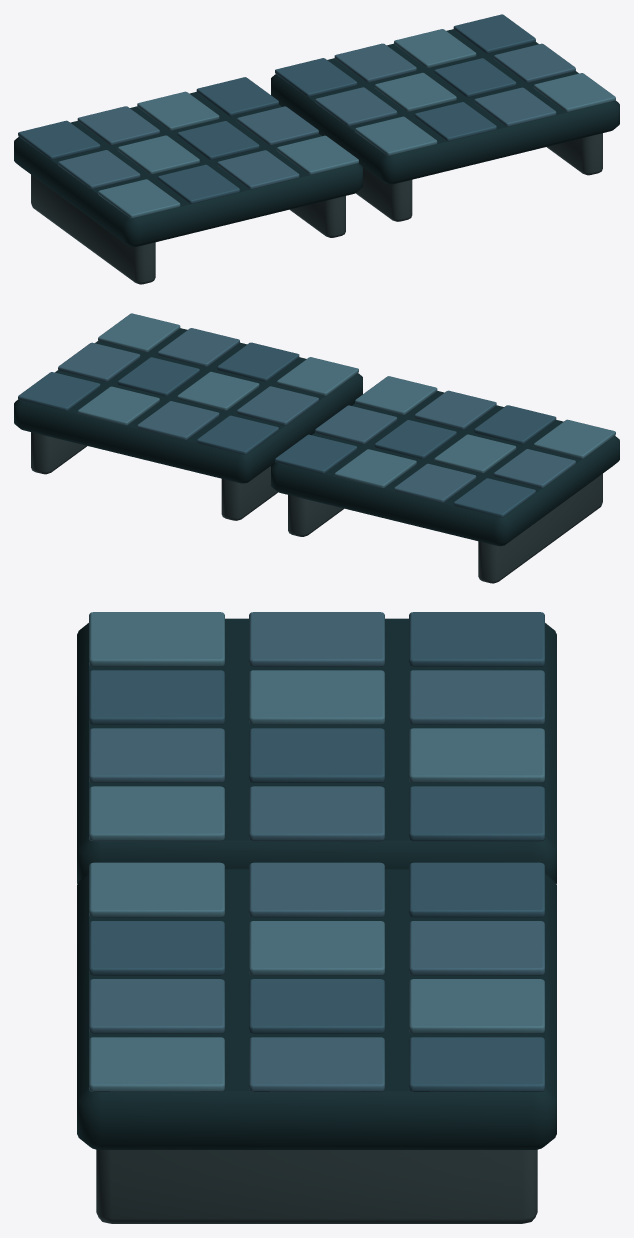
The model's file is service_solar.glb.
3 views of the same model, one above another, from view 1: azimuth 30°, elevation 25°; view 2: azimuth 150°, elevation 25°; view 3: azimuth 270°, elevation 25° (orthographic). The views are drawn at different scales.
Visible parts, largest first — view 1: Service_solar; view 2: Service_solar; view 3: Service_solar.
Boxes of the visible parts, box(x1,y1,x2,y2) form: Service_solar: box(14, 14, 619, 284); Service_solar: box(14, 313, 619, 583); Service_solar: box(77, 612, 556, 1223).
Size of the model in its own units: 2.12 by 0.311 by 0.89.
